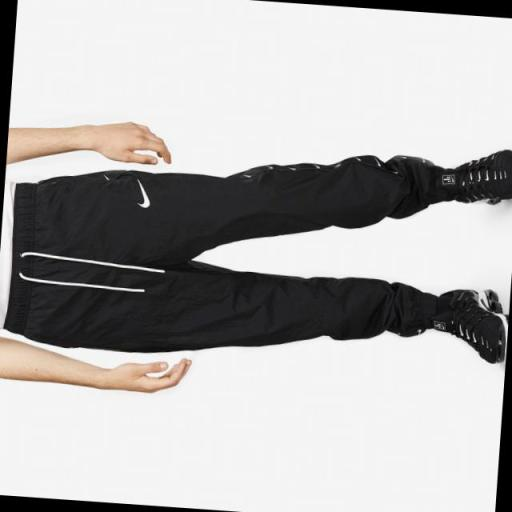Nike: (134, 176, 152, 209)
